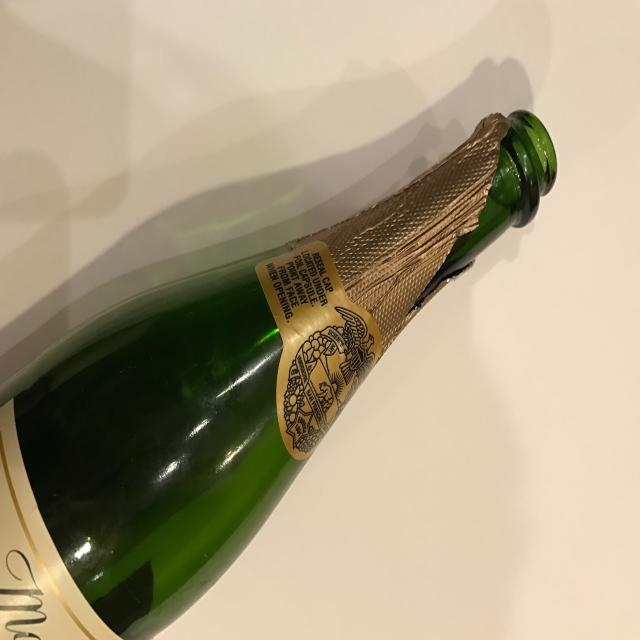glass: (0, 107, 558, 640)
